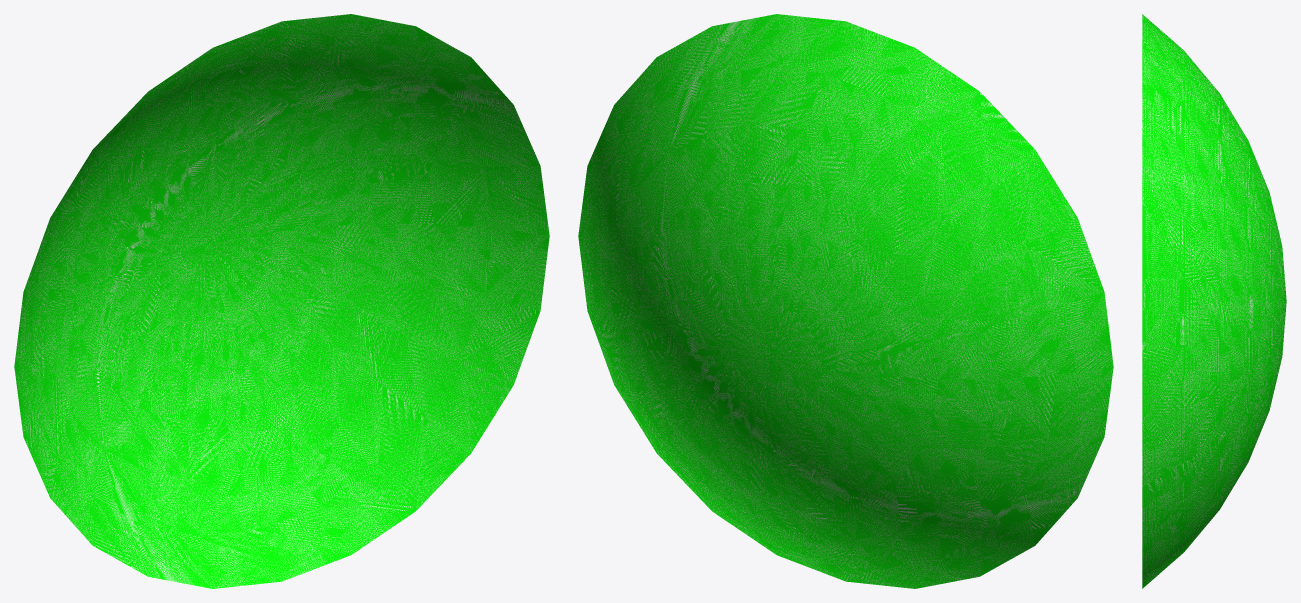
Rendered from original-3.obj.
3 renders of one model, left to right at view 1: azimuth 30°, elevation 25°; view 2: azimuth 150°, elevation 25°; view 3: azimuth 270°, elevation 25°, orthographic. The views are drawn at different scales.
Visible parts, largest first — view 1: Wooden_Plug1/Wooden_Plug/mesh1/mesh1-geometry#mesh1-geometry; view 2: Wooden_Plug1/Wooden_Plug/mesh1/mesh1-geometry#mesh1-geometry; view 3: Wooden_Plug1/Wooden_Plug/mesh1/mesh1-geometry#mesh1-geometry.
Part boxes in pixels (x1,y1,x2,y2): Wooden_Plug1/Wooden_Plug/mesh1/mesh1-geometry#mesh1-geometry: (14,14,549,588); Wooden_Plug1/Wooden_Plug/mesh1/mesh1-geometry#mesh1-geometry: (578,14,1113,588); Wooden_Plug1/Wooden_Plug/mesh1/mesh1-geometry#mesh1-geometry: (1142,14,1286,588).
Size of the model in its own units: 0.0221 by 0.0221 by 0.00552.
